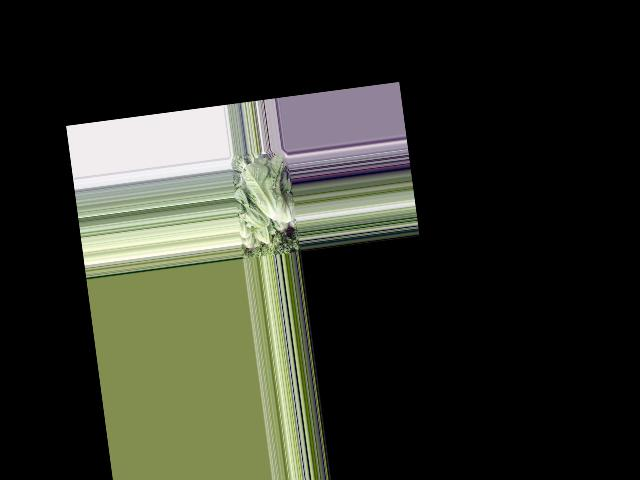lettuce: (235, 183, 270, 232)
